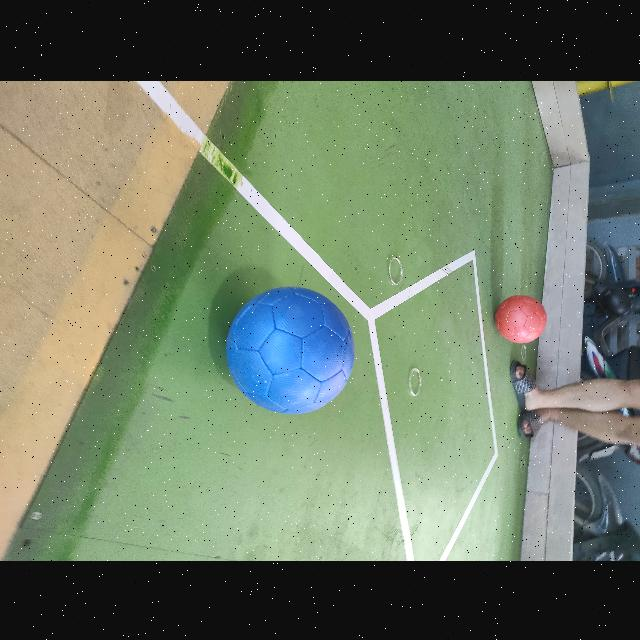B: (226, 286, 354, 414)
R: (496, 294, 546, 342)
